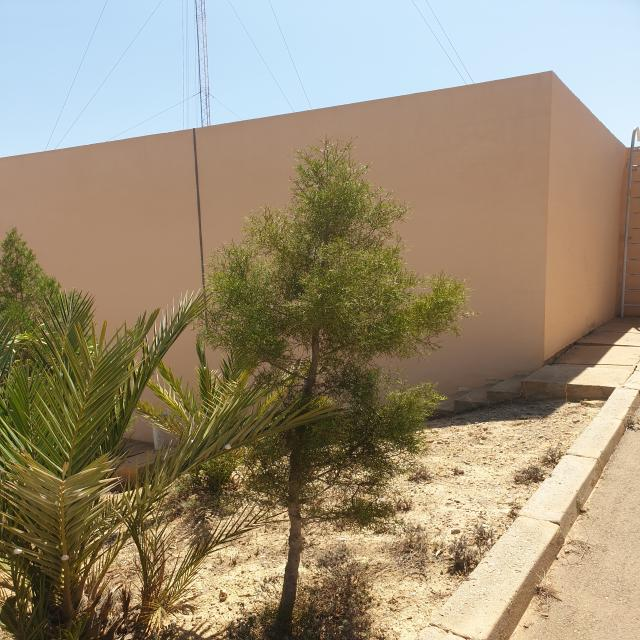Tree: (201, 139, 473, 640)
